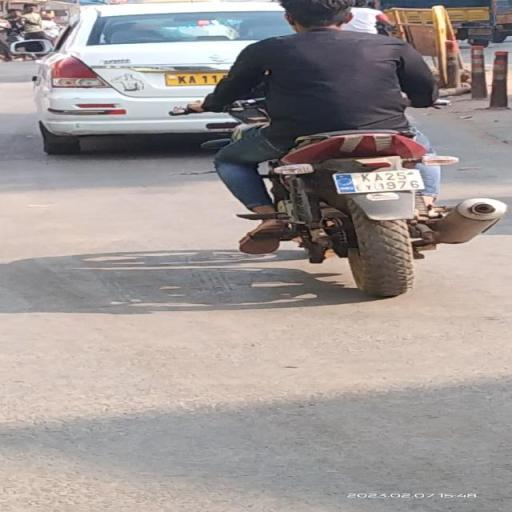bike: (166, 0, 508, 294)
numberplate: (331, 168, 426, 194)
withouthelmet: (284, 0, 353, 25)
